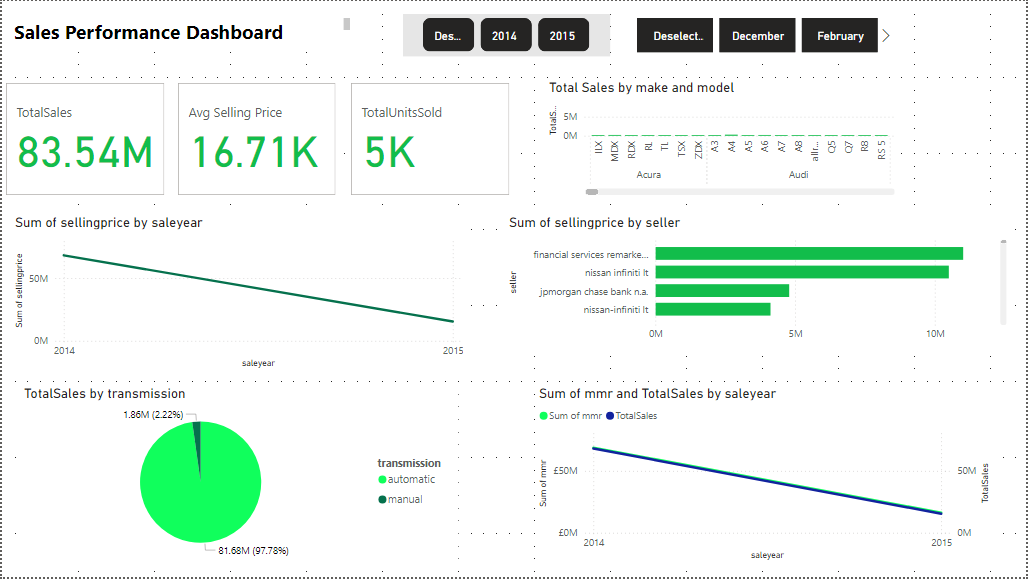

The dashboard page shown, as its layout file describes it:
{"tool":"powerbi","page":{"name":"Page 1","canvas":[1280,720],"ordinal":0},"visuals":[{"type":"advancedSlicerVisual","fields":{"Values":["fact_sales.saleyear"]},"box":[501,16.3,258.7,52.9],"z":0},{"type":"cardVisual","fields":{"Data":["fact_sales.TotalSales"]},"box":[0,97.1,208.7,150],"z":1000},{"type":"lineChart","fields":{"Category":["fact_sales.saleyear"],"Y":["Sum(fact_sales.sellingprice)"]},"box":[10.7,266.7,570.2,197.6],"z":2000},{"type":"pieChart","fields":{"Category":["fact_sales.transmission"],"Y":["fact_sales.TotalSales"]},"box":[22.6,479.8,547.6,223.8],"z":3000},{"type":"cardVisual","fields":{"Data":["fact_sales.TotalUnitsSold"]},"box":[431.7,97.1,208.7,150],"z":4000},{"type":"cardVisual","fields":{"Data":["fact_sales.AvgSellingPrice"]},"box":[215.4,97.1,207.7,150],"z":5000},{"type":"textbox","box":[10.6,16.3,429.8,38.5],"z":7001},{"type":"clusteredColumnChart","title":"Total Sales by make and model","fields":{"Y":["fact_sales.TotalSales"],"Category":["fact_sales.make","fact_sales.model"]},"box":[678.8,97.1,442.3,150],"z":7002},{"type":"advancedSlicerVisual","fields":{"Values":["fact_sales.month"]},"box":[769.2,16.3,351.9,53.8],"z":7004},{"type":"clusteredBarChart","fields":{"Y":["Sum(fact_sales.sellingprice)"],"Category":["dim_salesman.seller"]},"box":[628.6,266.7,632.1,167.9],"z":7006},{"type":"lineChart","fields":{"Y2":["fact_sales.TotalSales"],"Category":["fact_sales.saleyear"],"Y":["Sum(fact_sales.mmr)"]},"box":[666.7,479.8,573.8,223.8],"z":7007}]}

Visuals, with their boxes in screenshot pixels (x1, y1, x2, y2), scaled from the page's 1280x720 canvas onto the 1032x585 screenshot:
advancedSlicerVisual - fact_sales.saleyear: (404, 13, 613, 56)
cardVisual - fact_sales.TotalSales: (0, 79, 168, 201)
lineChart - fact_sales.saleyear x Sum(fact_sales.sellingprice): (9, 217, 468, 377)
pieChart - fact_sales.transmission x fact_sales.TotalSales: (18, 390, 460, 572)
cardVisual - fact_sales.TotalUnitsSold: (348, 79, 516, 201)
cardVisual - fact_sales.AvgSellingPrice: (174, 79, 341, 201)
textbox: (9, 13, 355, 45)
"Total Sales by make and model" clusteredColumnChart: (547, 79, 904, 201)
advancedSlicerVisual - fact_sales.month: (620, 13, 904, 57)
clusteredBarChart - Sum(fact_sales.sellingprice) x dim_salesman.seller: (507, 217, 1016, 353)
lineChart - fact_sales.TotalSales x fact_sales.saleyear: (538, 390, 1000, 572)
